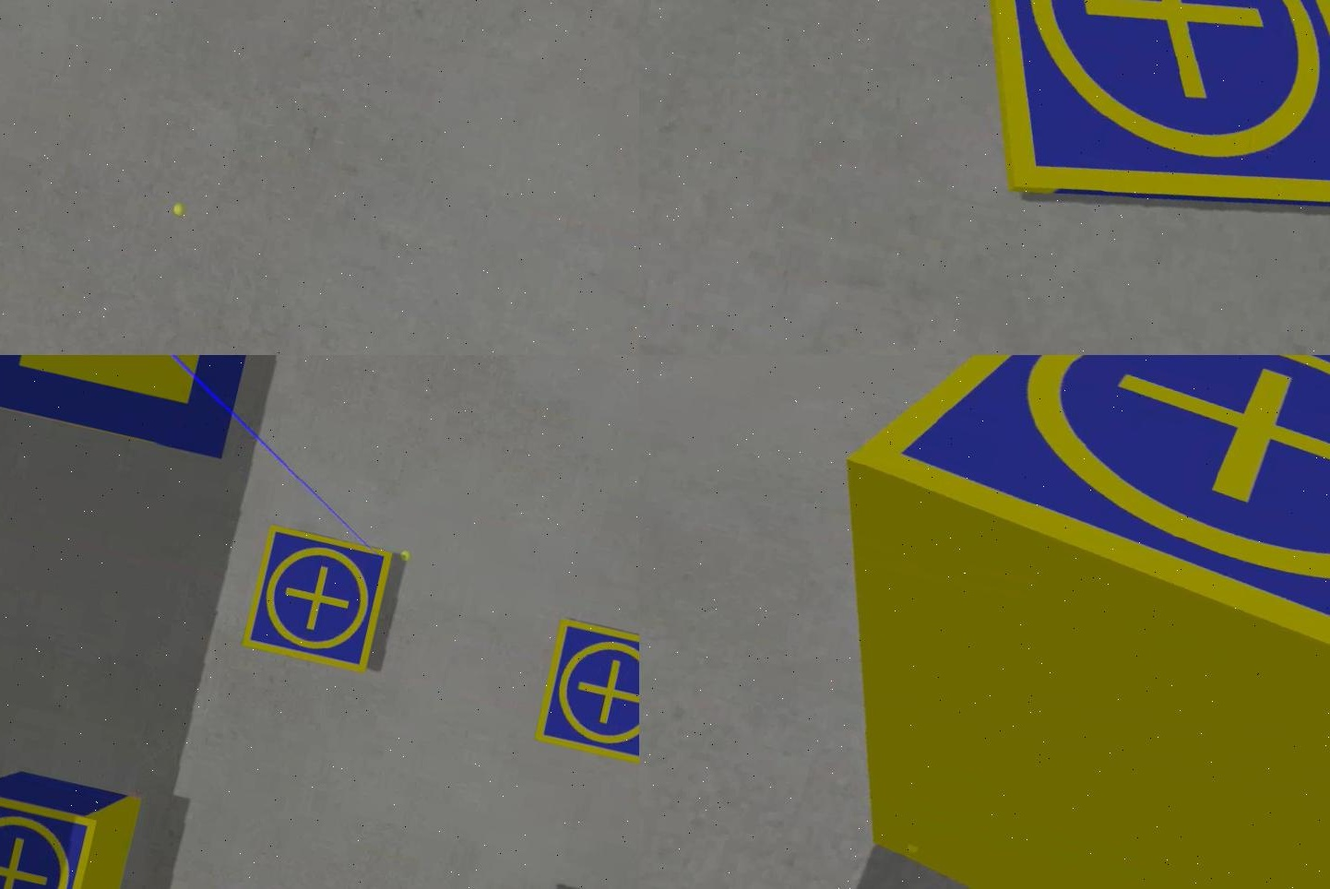large_base: (0, 356, 276, 461)
small_base: (819, 356, 1328, 751), (898, 1, 1328, 290), (238, 521, 397, 677), (528, 616, 637, 773), (0, 783, 100, 889)
